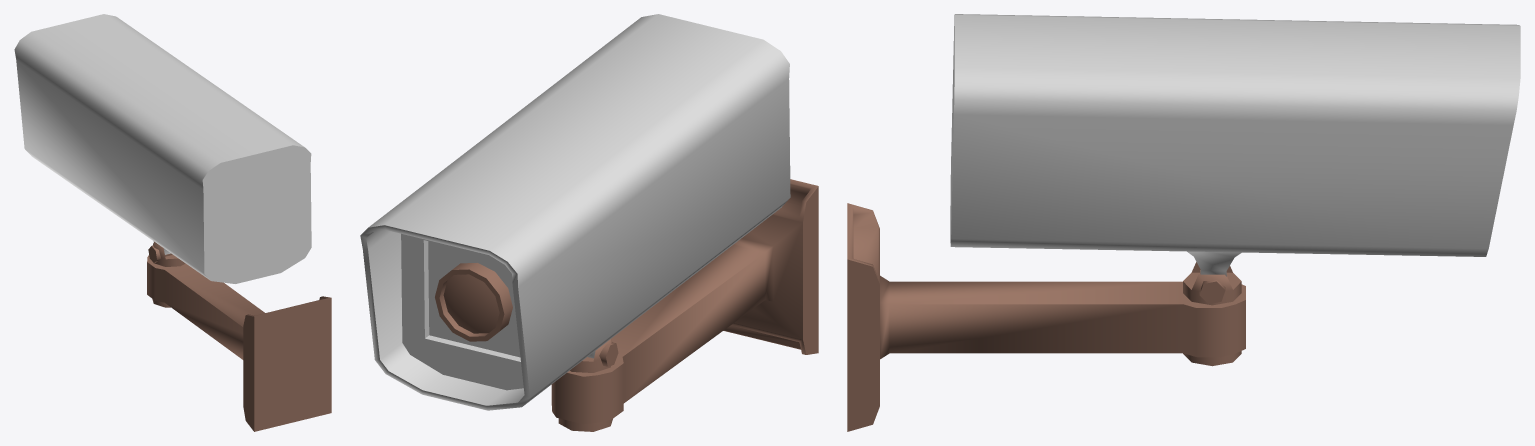
Rendered from camarabuena.fbx.
3 views of the same model, side by side, from view 1: azimuth 30°, elevation 25°; view 2: azimuth 150°, elevation 25°; view 3: azimuth 270°, elevation 25° (orthographic). The views are drawn at different scales.
Parts seen in each view (by area): view 1: Lens.001, Angle; view 2: Lens.001, Angle; view 3: Lens.001, Angle.
Part boxes in pixels (box(x1,y1,x2,y2)): Lens.001: box(14, 14, 311, 283); Angle: box(147, 241, 331, 431); Lens.001: box(360, 14, 790, 410); Angle: box(551, 179, 818, 431); Lens.001: box(950, 14, 1520, 276); Angle: box(847, 203, 1245, 431).
Size of the model in its own units: 16.46 by 35.05 by 59.04.
